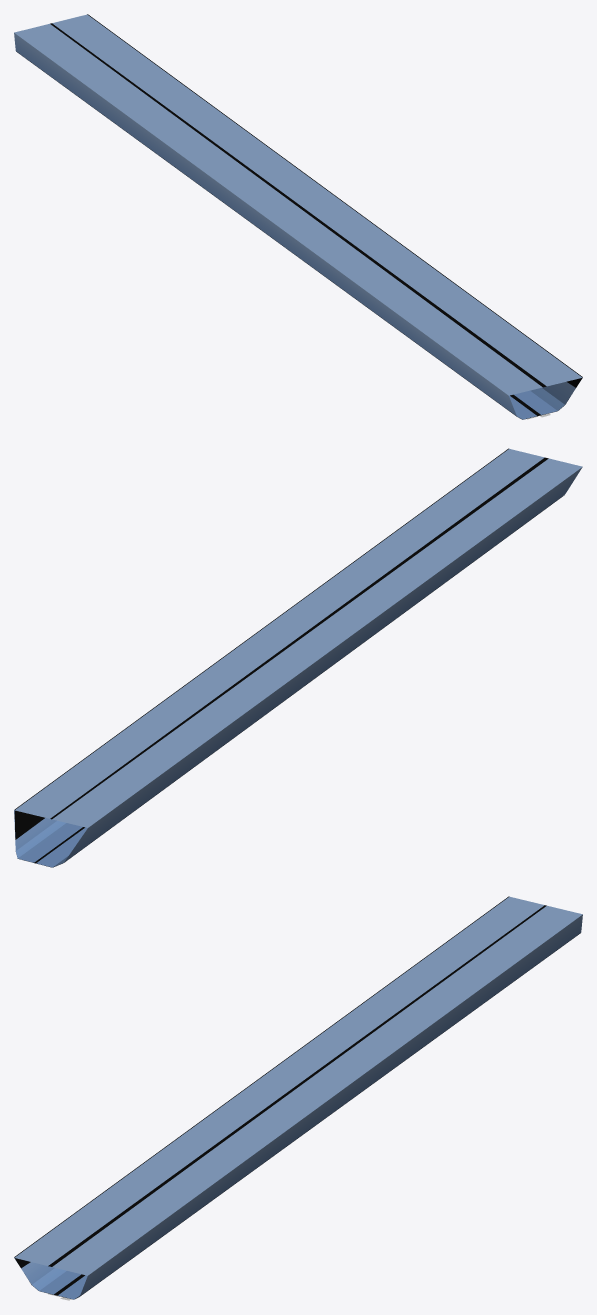
The model's file is Rooms_Paradise_SciFi_PlatformStairs_Support_Art.fbx.
The picture shows the model from 3 angles, top to bottom: view 1: azimuth 30°, elevation 25°; view 2: azimuth 150°, elevation 25°; view 3: azimuth 330°, elevation 25°; orthographic projection.
Parts seen in each view (by area): view 1: Rooms_Paradise_SciFi_PlatformStairs_Support_Art, Rooms_Paradise_SciFi_PlatformStairs_Support_Outliner; view 2: Rooms_Paradise_SciFi_PlatformStairs_Support_Art, Rooms_Paradise_SciFi_PlatformStairs_Support_Outliner; view 3: Rooms_Paradise_SciFi_PlatformStairs_Support_Art, Rooms_Paradise_SciFi_PlatformStairs_Support_Outliner.
Part boxes in pixels (<box>): Rooms_Paradise_SciFi_PlatformStairs_Support_Art: <box>14,14,582,419</box>; Rooms_Paradise_SciFi_PlatformStairs_Support_Outliner: <box>16,14,582,419</box>; Rooms_Paradise_SciFi_PlatformStairs_Support_Art: <box>14,449,582,867</box>; Rooms_Paradise_SciFi_PlatformStairs_Support_Outliner: <box>14,448,564,867</box>; Rooms_Paradise_SciFi_PlatformStairs_Support_Art: <box>14,896,582,1299</box>; Rooms_Paradise_SciFi_PlatformStairs_Support_Outliner: <box>14,896,580,1299</box>.
Size of the model in its own units: 84.55 by 39.51 by 998.
